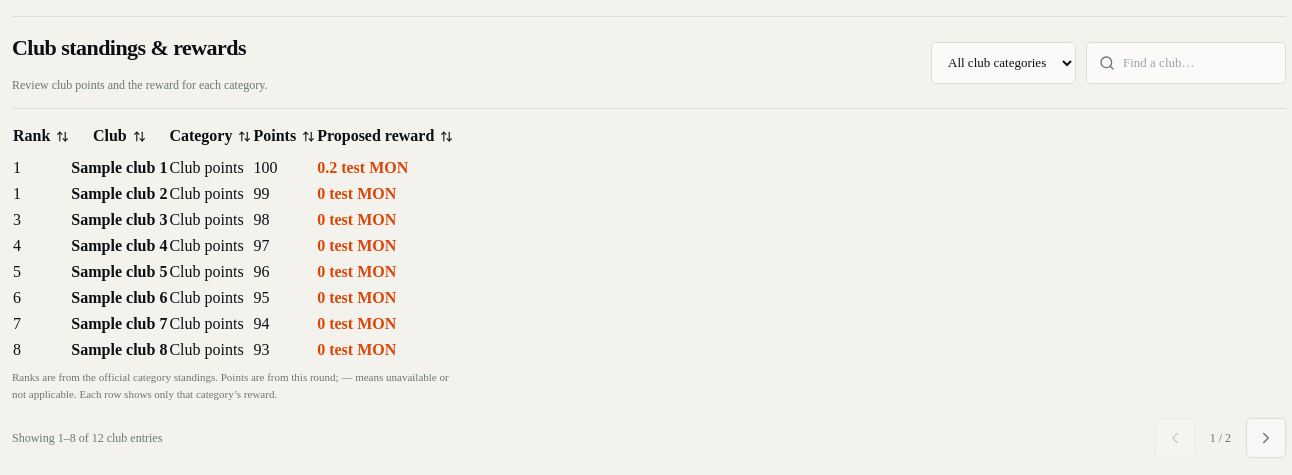
Test case: clears club filters without losing selected sort or pagination recovery
The width and height of the screenshot is (1292, 475).
Check: the button "Clear club filters" is not shown
Click the button "Points".
click(284, 136)  # box 254,118 -> 315,154
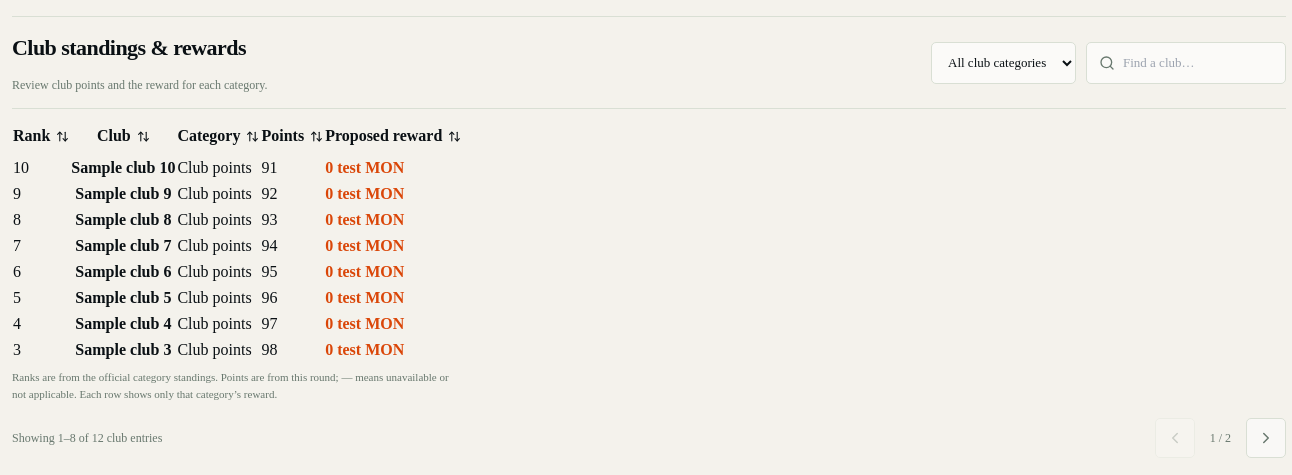
Click the button "Points".
click(292, 136)  # box 262,118 -> 323,154
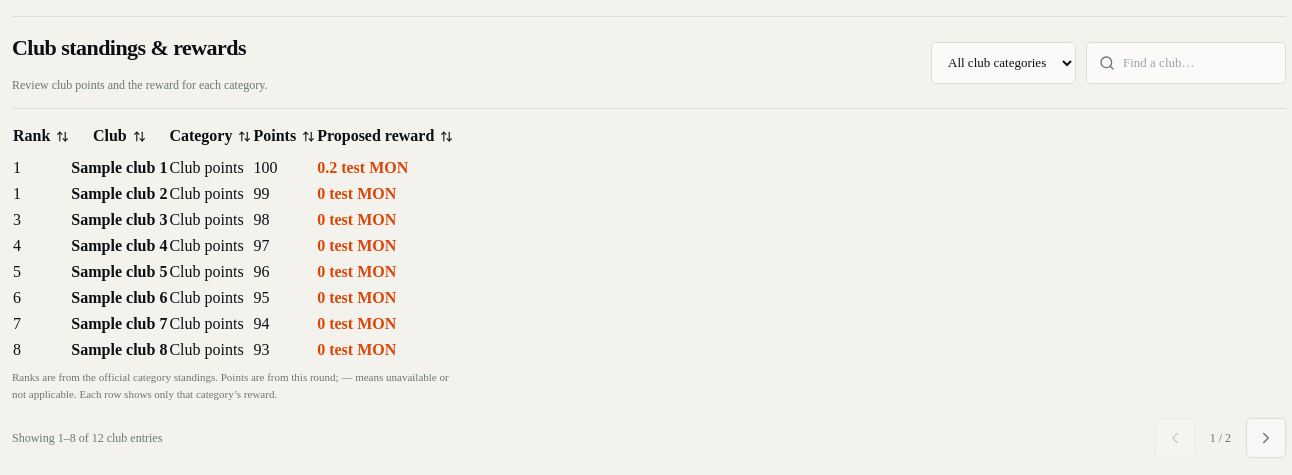
Click the button named "Next club results".
click(1266, 438)  # box 1246,418 -> 1286,458
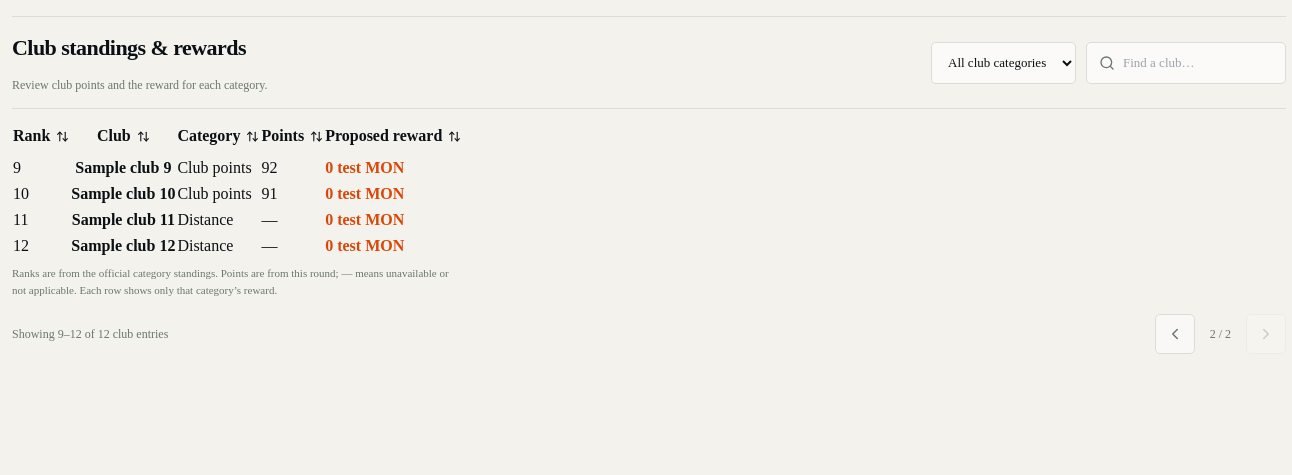
Select "Distance" in the dropdown named "Club category" at (1004, 62), box 931,42 -> 1076,84
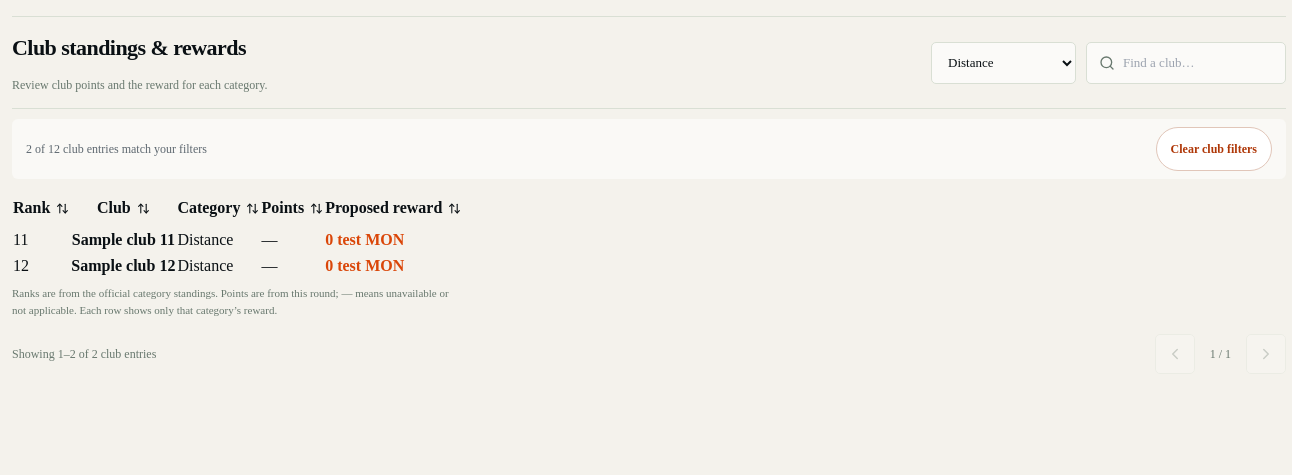
Type "missing" into the field labelled "Find a club".
click(1198, 63); type("missing")  # box 1123,53 -> 1273,72
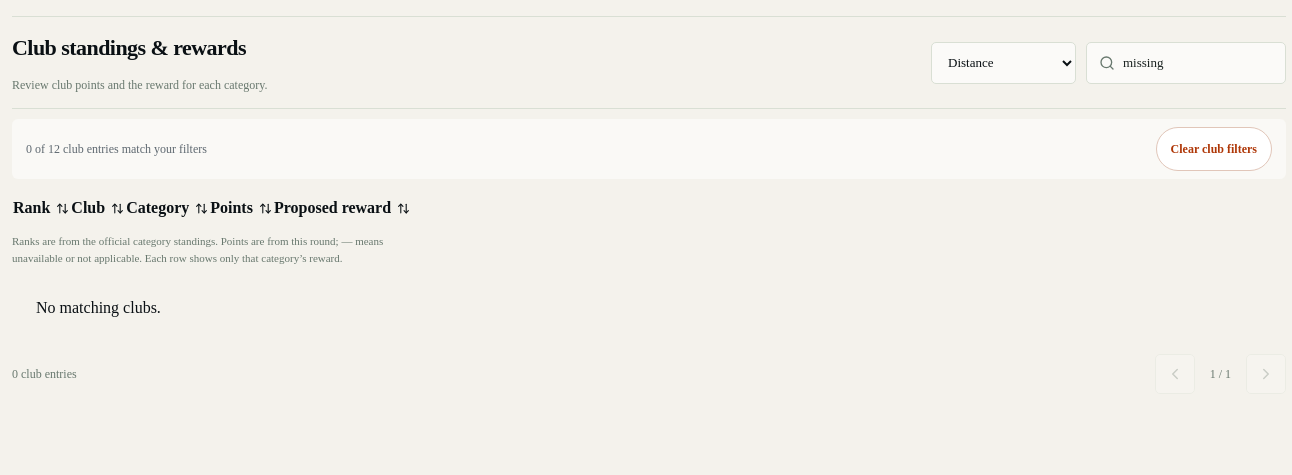
Check: the text "0 of 12 club entries match your filters" is shown, box 26,140 -> 207,158
Click the button "Clear club filters".
click(1214, 149)  # box 1156,127 -> 1272,171
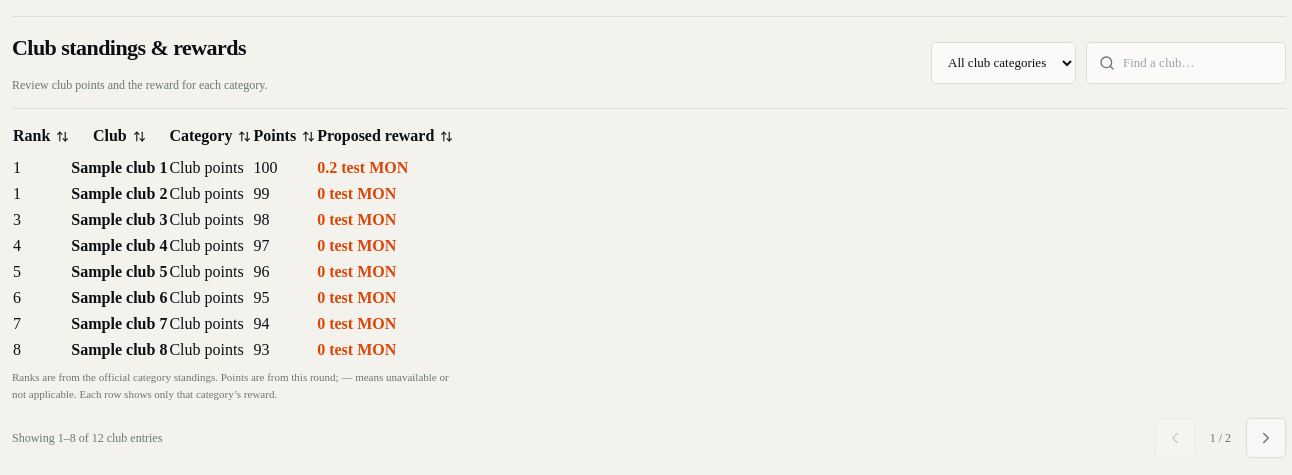
Check: the field labelled "Find a club" is empty, box 1123,53 -> 1273,72
Check: the text "Showing 1–8 of 12 club entries" is shown, box 12,429 -> 162,447
Check: the row "1 Sample club 1 Club points 100 0.2 test MON" is shown, box 12,155 -> 454,181
